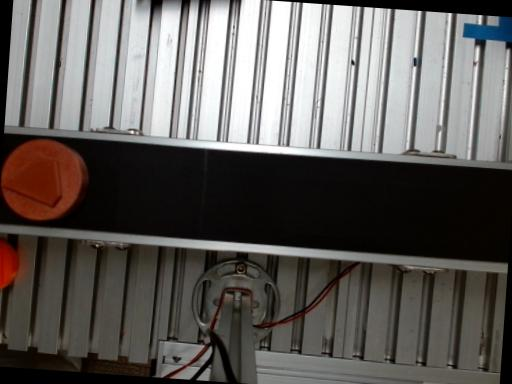Brown_Waper: (0, 139, 88, 220)
Not_Square: (1, 156, 61, 208)
